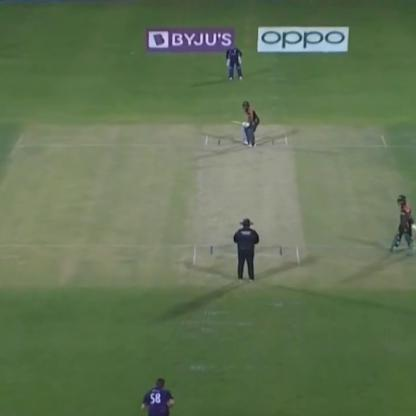bat: (226, 116, 249, 129)
pitch: (198, 135, 303, 272)
